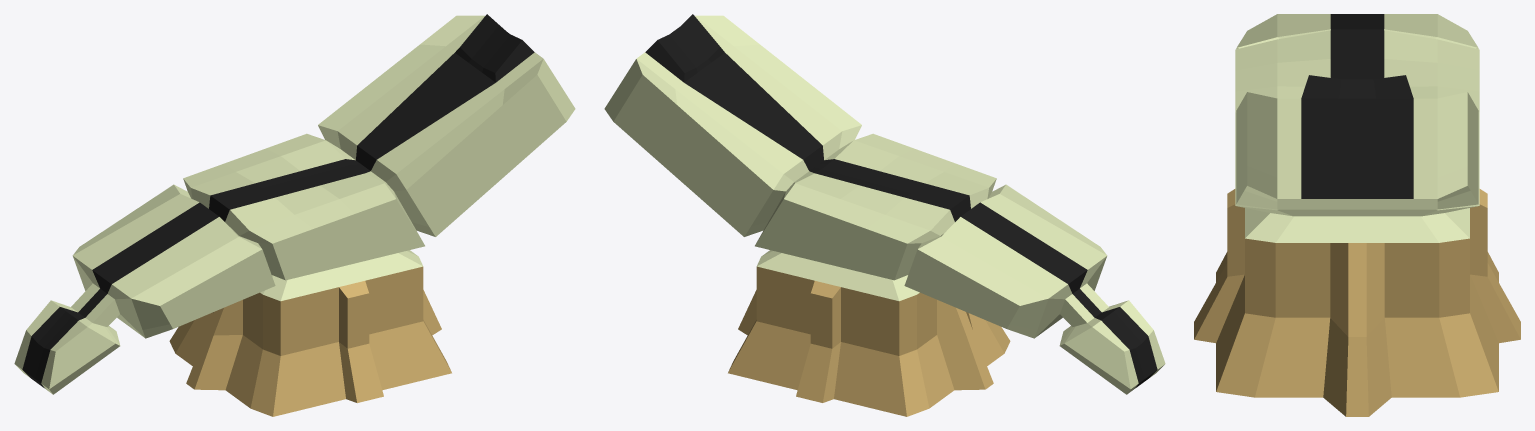
Rendered from OP-Stuhl.fbx.
The picture shows the model from 3 angles, left to right: view 1: azimuth 30°, elevation 25°; view 2: azimuth 150°, elevation 25°; view 3: azimuth 270°, elevation 25°; orthographic projection. The views are drawn at different scales.
Parts seen in each view (by area): view 1: OP-Stuhl; view 2: OP-Stuhl; view 3: OP-Stuhl.
Boxes of the visible parts, <box> form: OP-Stuhl: <box>14,14,575,416</box>; OP-Stuhl: <box>604,14,1165,416</box>; OP-Stuhl: <box>1194,14,1520,416</box>.
Size of the model in its own units: 259 by 136 by 104.
